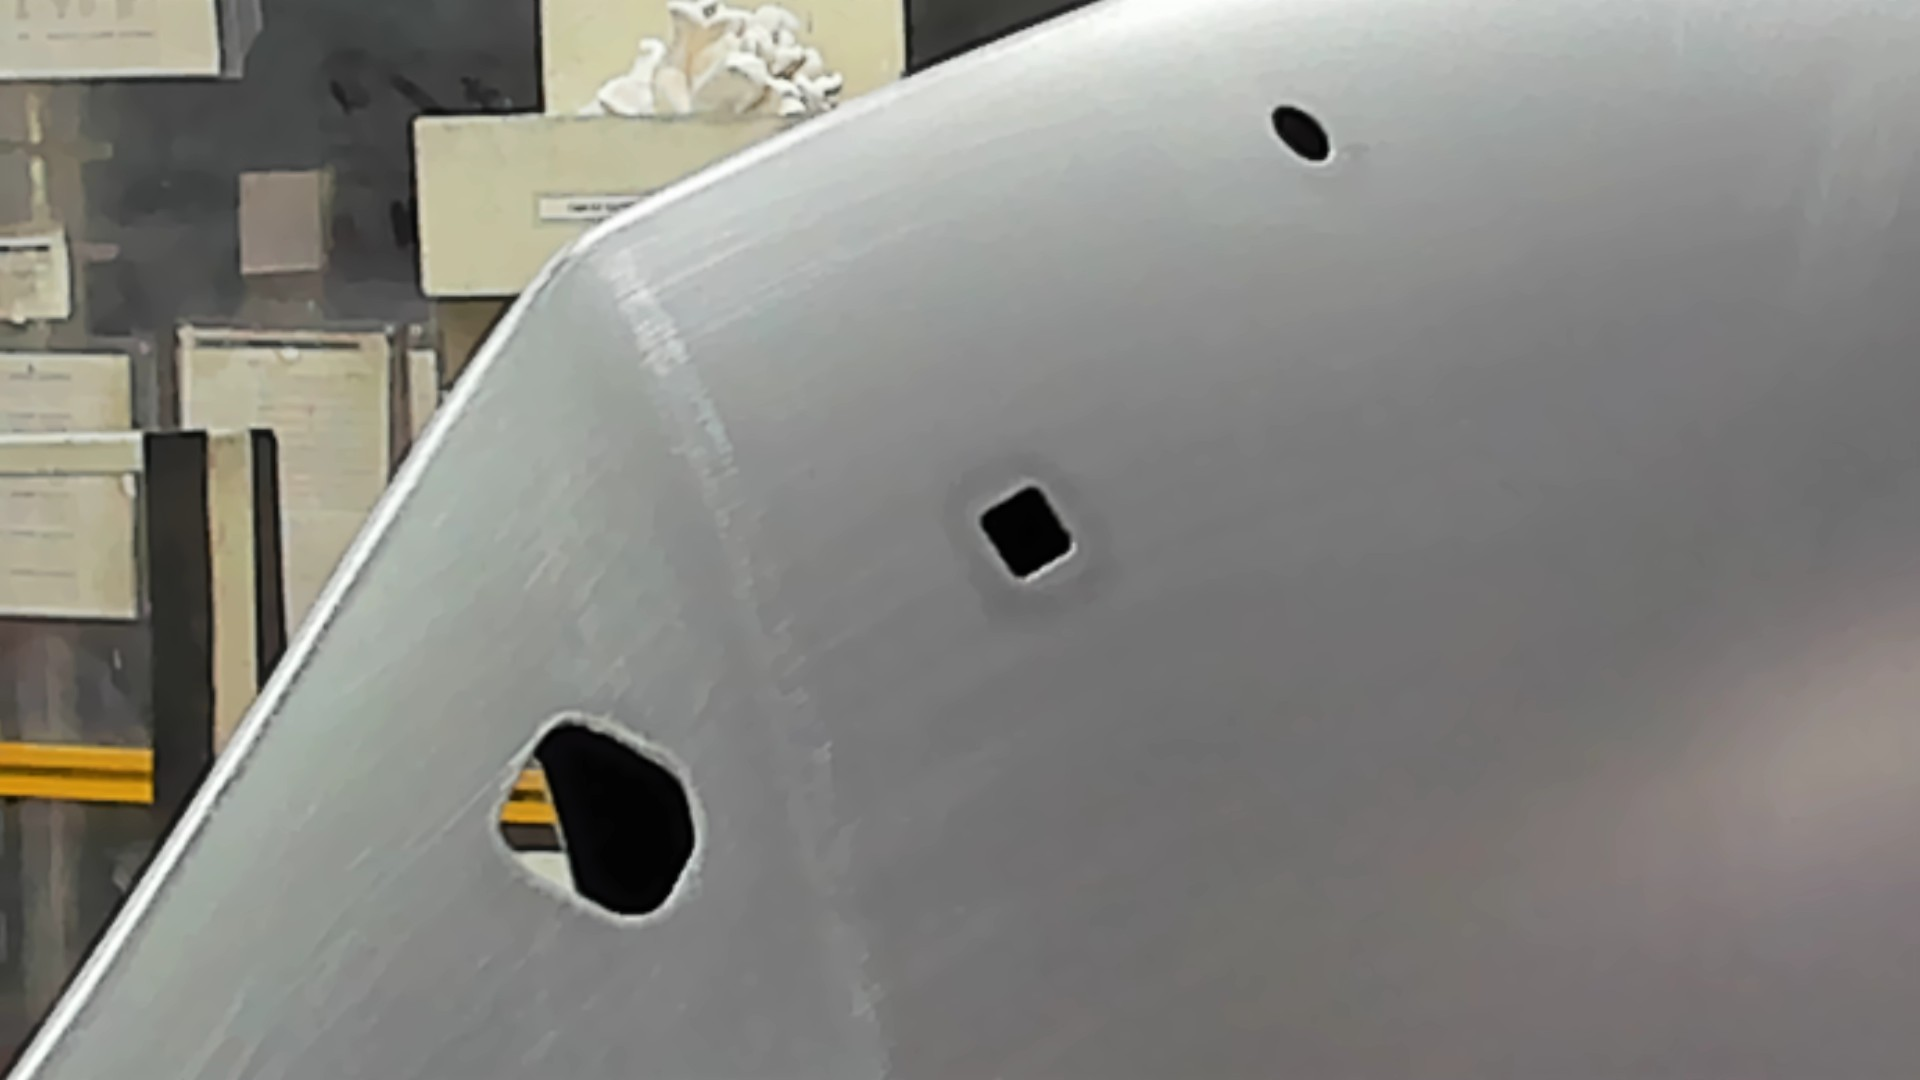capo: (1088, 170, 1920, 1080)
chico: (1266, 99, 1335, 164)
grande: (480, 709, 707, 938)
mediano: (973, 477, 1083, 591)
